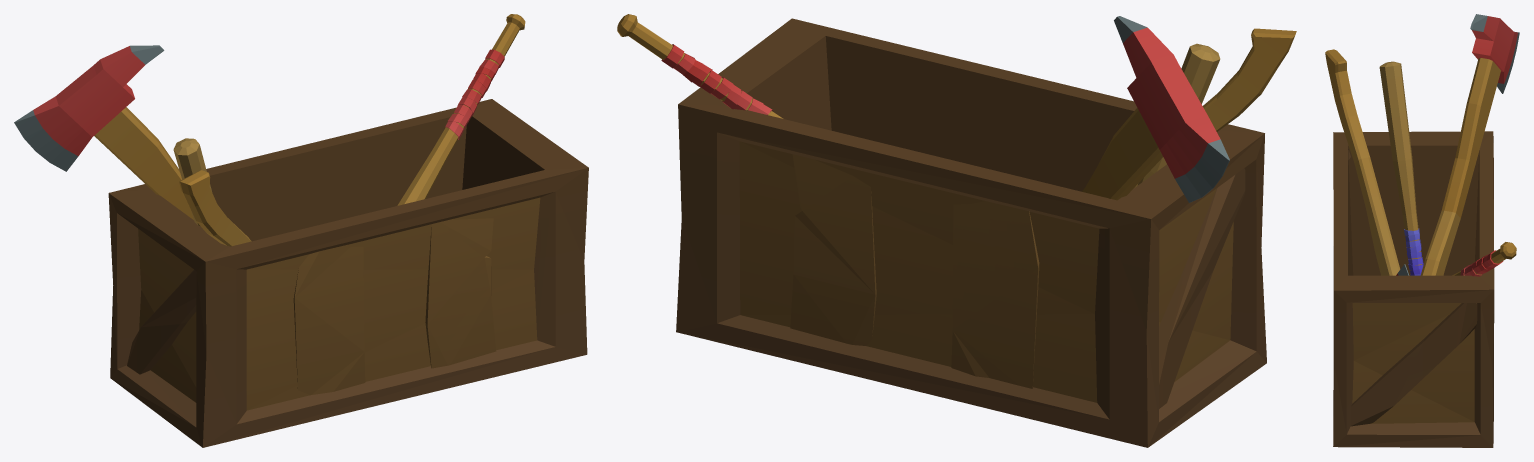
File: ToolsBox.fbx
The picture shows the model from 3 angles, left to right: view 1: azimuth 30°, elevation 25°; view 2: azimuth 150°, elevation 25°; view 3: azimuth 270°, elevation 25°; orthographic projection. The views are drawn at different scales.
Parts seen in each view (by area): view 1: ToolsBox; view 2: ToolsBox; view 3: ToolsBox.
Boxes of the visible parts, x1,y1,x2,y2 form: ToolsBox: [14, 14, 588, 447]; ToolsBox: [617, 14, 1296, 447]; ToolsBox: [1325, 14, 1519, 447].
Bounding box in the file's own units: 225 × 142 × 89.11.
